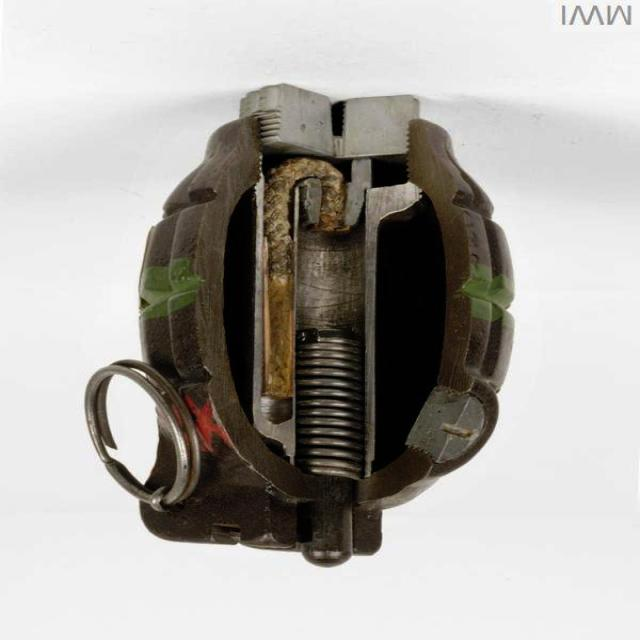grenade: (84, 85, 516, 568)
